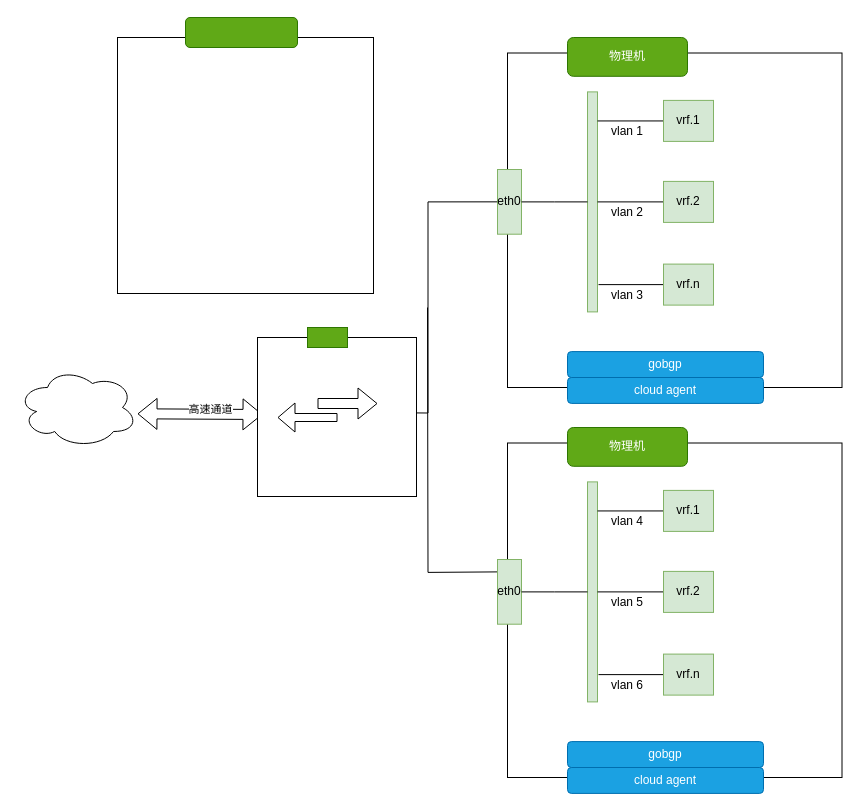
This 860x811 diagram has some shape labels left out. Each missing label, with the centre of its shape:
"cloud link" belongs at (x=241, y=32).
"type cloudLink struct{ V rf string VbrIp string NodeName string Vlan int }" belongs at (x=245, y=165).
"交换机" belongs at (x=327, y=337).
"公有云" belongs at (x=77, y=407).
